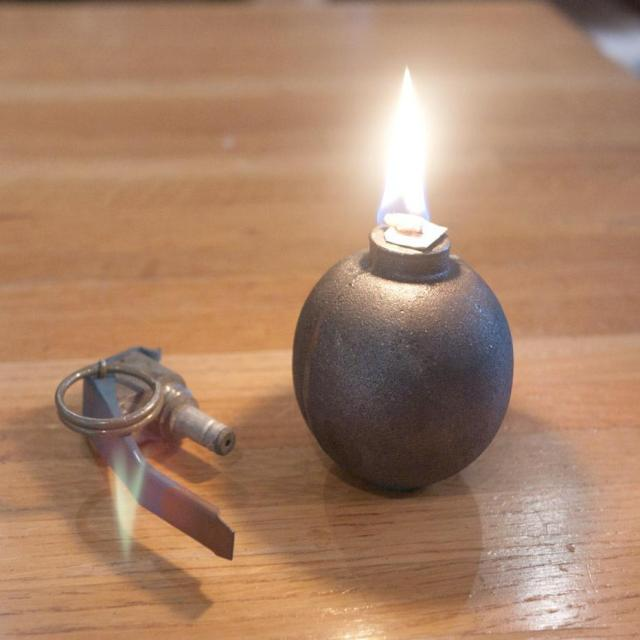grenade: (294, 209, 517, 500), (55, 349, 237, 562)
